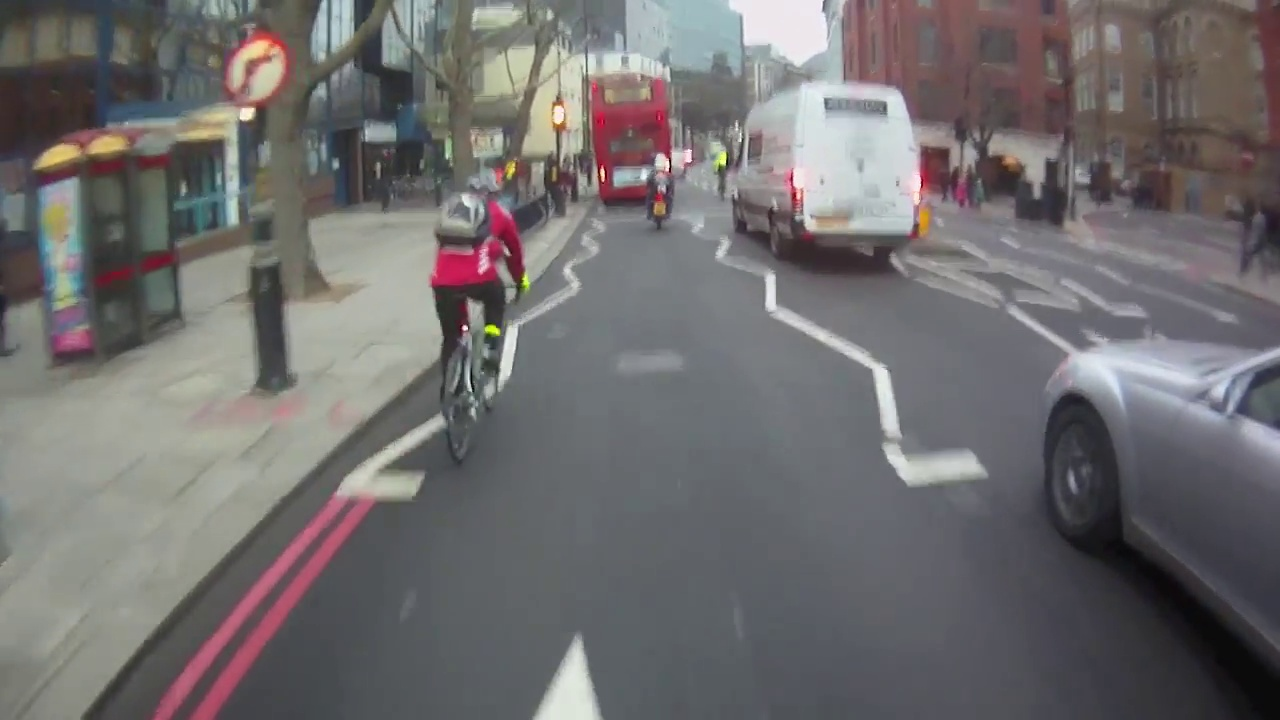cyclist_back: (428, 168, 532, 465), (639, 147, 680, 234)
